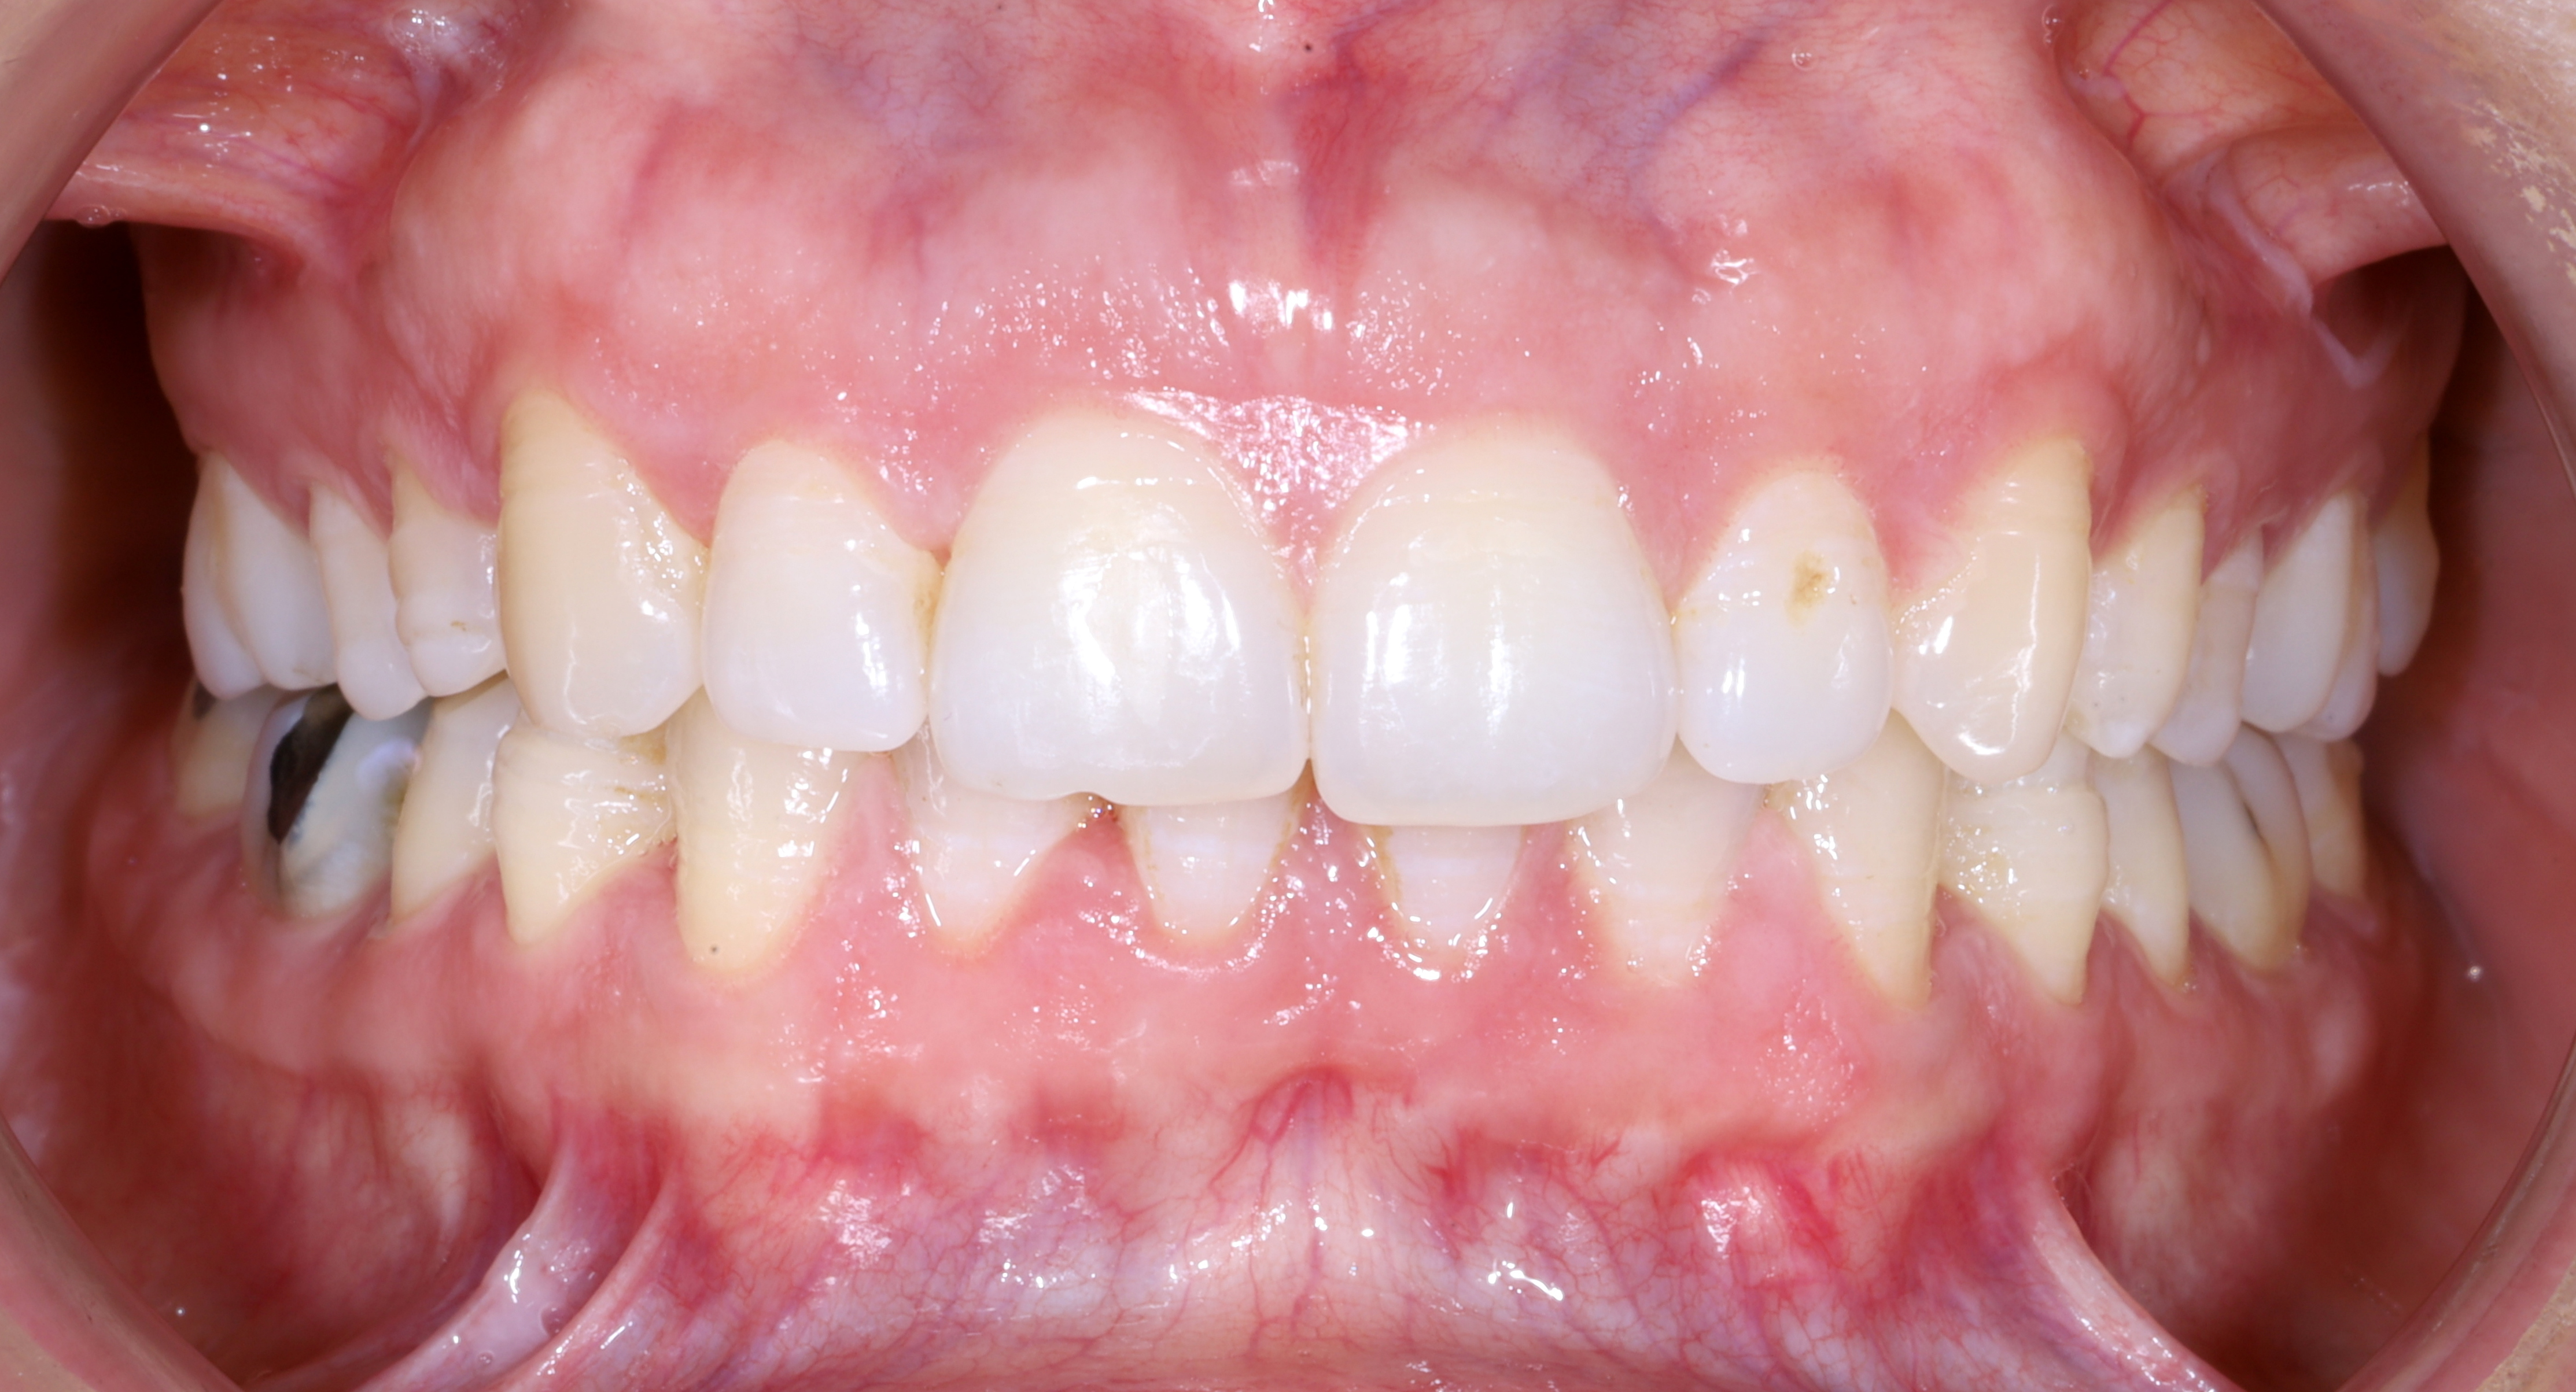LL1M_sdecay: (2187, 777, 2288, 972)
LR1M_sdecay: (273, 696, 391, 933)
LR2M_sdecay: (170, 703, 247, 833)
UL1BC_mdecay: (2091, 494, 2199, 761)
UL1M_healthy: (2257, 506, 2348, 734)
UL2BC_mdecay: (2199, 542, 2261, 763)
UL2M_mdecay: (2353, 525, 2375, 735)
UL3M_mdecay: (2379, 463, 2434, 674)
ULCI_healthy: (1309, 439, 1674, 819)
ULC_mdecay: (1892, 442, 2089, 771)
ULLI_mdecay: (1678, 471, 1887, 782)
UR1BC_mdecay: (391, 458, 502, 698)
UR1M_mdecay: (187, 463, 309, 687)
UR2BC_mdecay: (315, 487, 401, 717)
URCI_healty: (950, 425, 1292, 799)
URC_mdecay: (502, 406, 701, 734)
URLI_mdecay: (703, 447, 939, 754)
